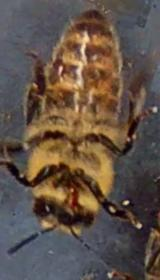varroa_mite: (41, 51, 70, 88)
